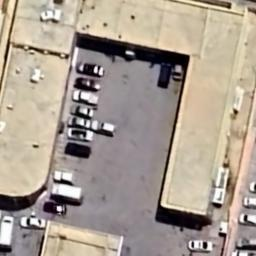SUV: (88, 118, 122, 138)
pickup: (67, 88, 103, 106), (64, 142, 92, 160), (51, 170, 78, 186), (63, 129, 96, 141)
sedan: (75, 59, 110, 78), (41, 200, 71, 218), (182, 239, 218, 254), (71, 76, 104, 92), (67, 104, 98, 120), (18, 215, 49, 231), (64, 116, 92, 130), (236, 210, 256, 229), (233, 234, 256, 250), (172, 60, 186, 82), (242, 196, 256, 214), (228, 247, 255, 256), (249, 179, 256, 194)
truck: (47, 182, 86, 205), (158, 59, 172, 93)
van: (0, 214, 16, 254)
